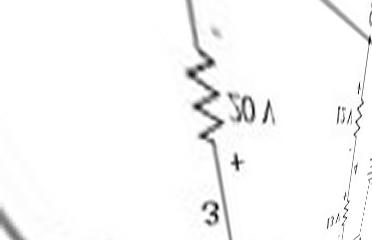resistor: (185, 38, 219, 158), (354, 95, 361, 149)
